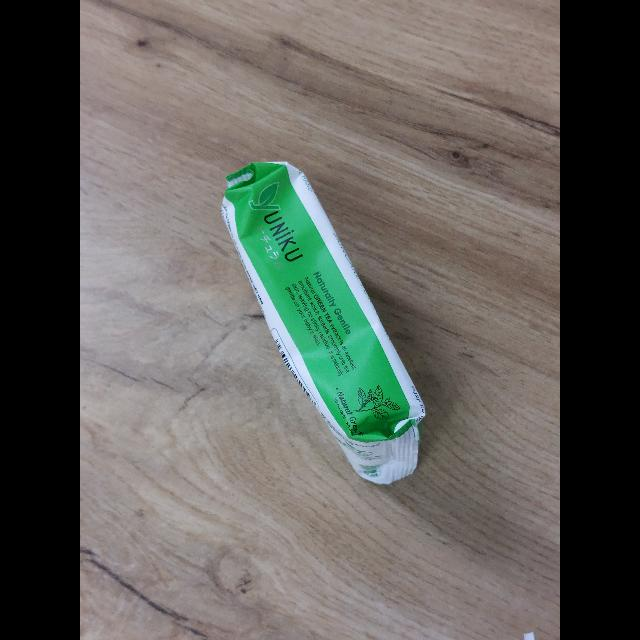khan_giay: (222, 162, 425, 484)
